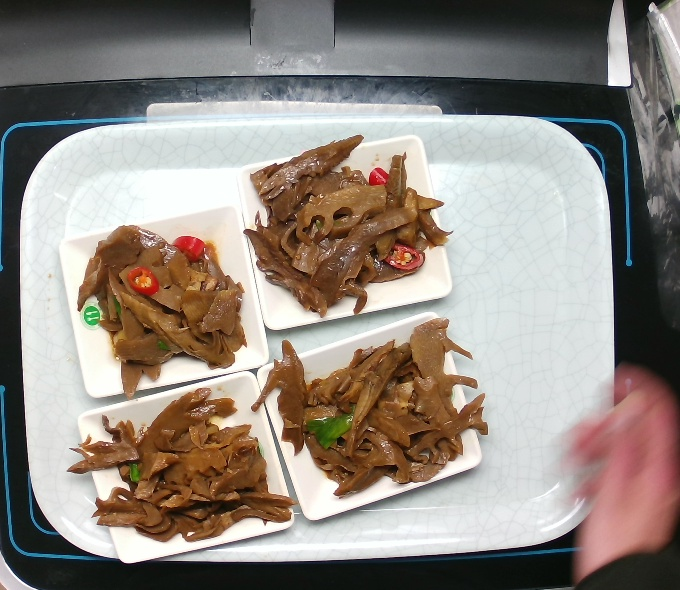wcq-SunGan: (246, 312, 491, 504), (238, 126, 458, 324), (61, 380, 301, 544), (70, 220, 252, 400)
